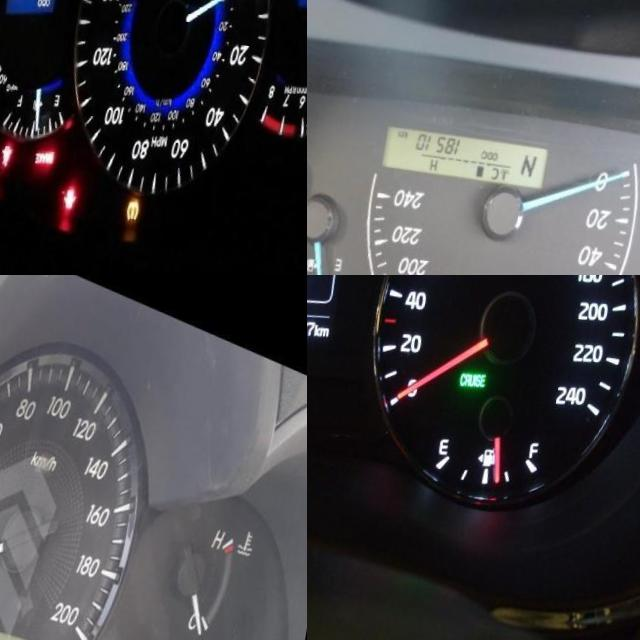Seat Belt: (15, 139, 30, 164)
